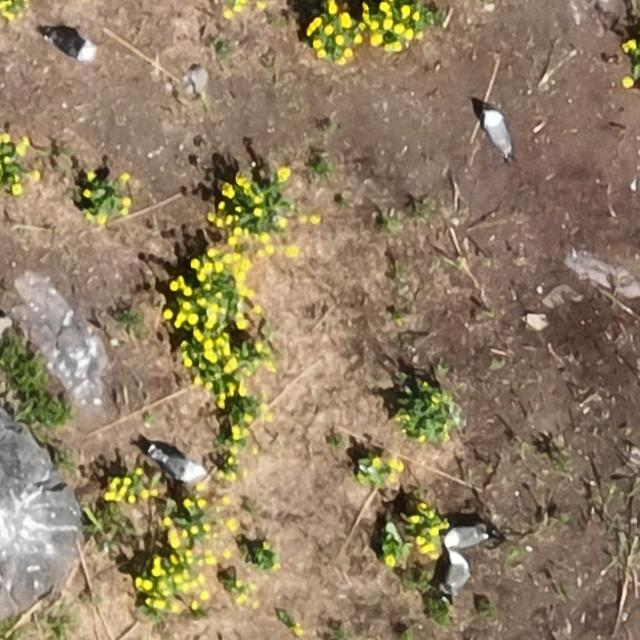umineko: (155, 454, 200, 482), (487, 111, 512, 157), (49, 33, 91, 60), (446, 528, 485, 548), (447, 558, 468, 592)
